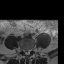CCS_normal: (26, 47, 28, 56)
LFS_normal: (30, 46, 32, 53)
LLS_normal: (28, 47, 30, 55)
RFS_normal: (22, 46, 24, 53)
RLS_normal: (24, 47, 26, 55)
